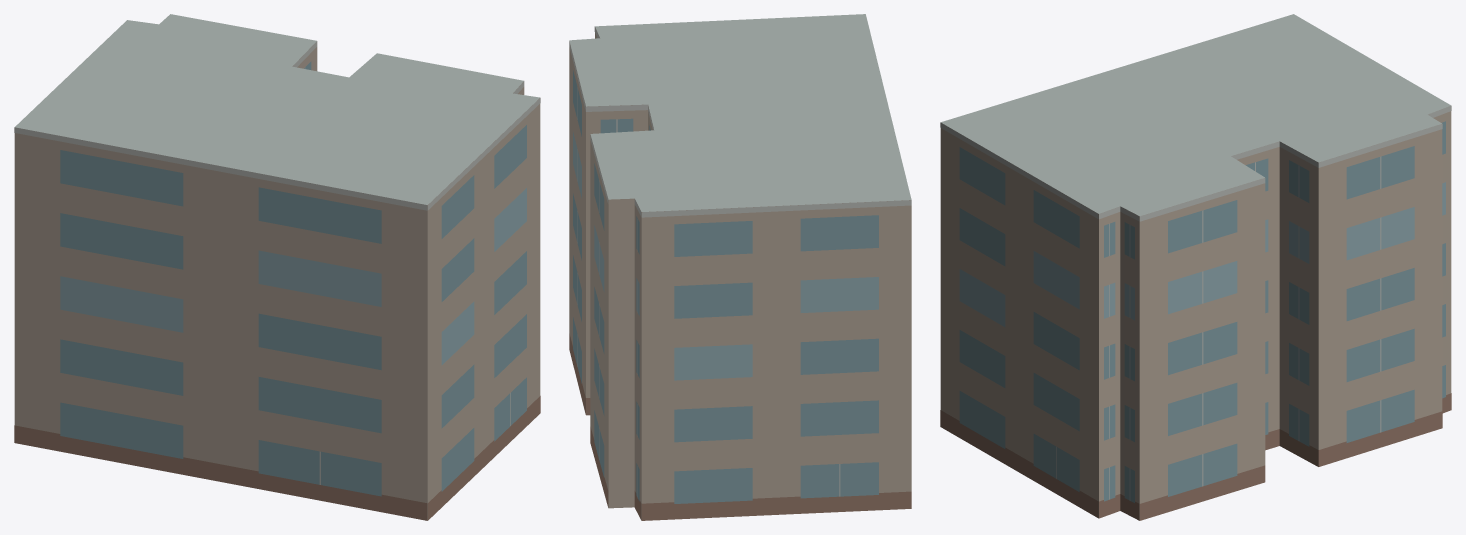
The model's file is survey-upis-32713476.glb.
The picture shows the model from 3 angles, left to right: view 1: azimuth 30°, elevation 25°; view 2: azimuth 150°, elevation 25°; view 3: azimuth 270°, elevation 25°; orthographic projection. The views are drawn at different scales.
Visible parts, largest first — view 1: survey-upis-32713476.tmp; view 2: survey-upis-32713476.tmp; view 3: survey-upis-32713476.tmp.
Part boxes in pixels (x1=…): survey-upis-32713476.tmp: x1=14, y1=14, x2=540, y2=520; survey-upis-32713476.tmp: x1=569, y1=14, x2=911, y2=520; survey-upis-32713476.tmp: x1=940, y1=14, x2=1451, y2=520.
Bounding box in the file's own units: 19.53 × 13.7 × 20.84.
